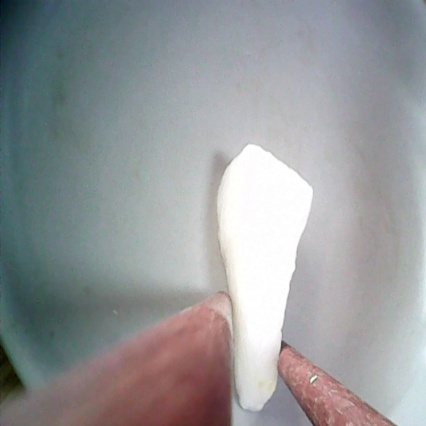white_chinese-yam: (208, 143, 323, 419)
